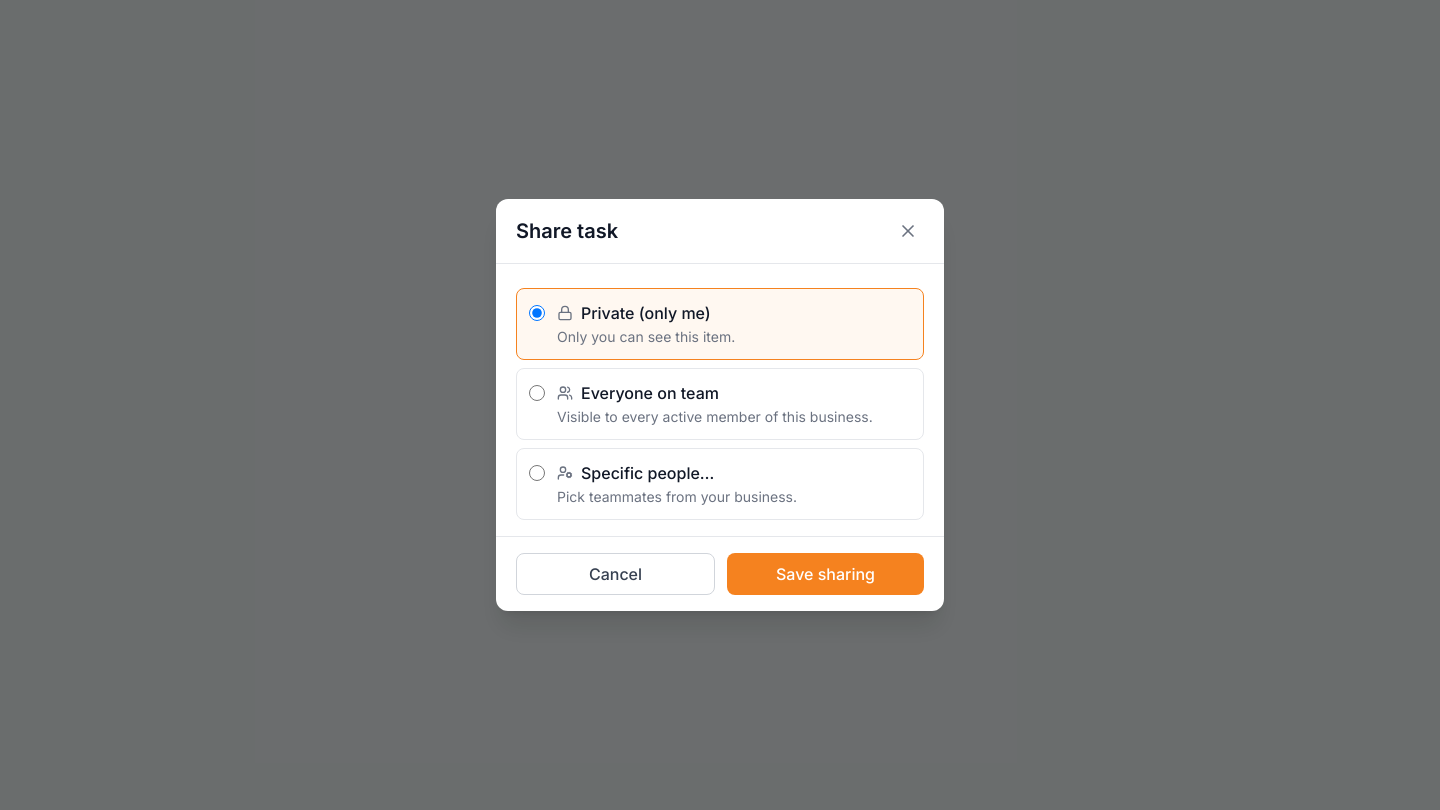
Test: ShareDialog — rendering › shows TeammatePicker only when "Specific people…" is selected
The width and height of the screenshot is (1440, 810).
# Switch to specific
Click the radio button labelled "Specific people… Pick teammates from your business.". click: (537, 473)
box: left=529, top=465, right=545, bottom=481
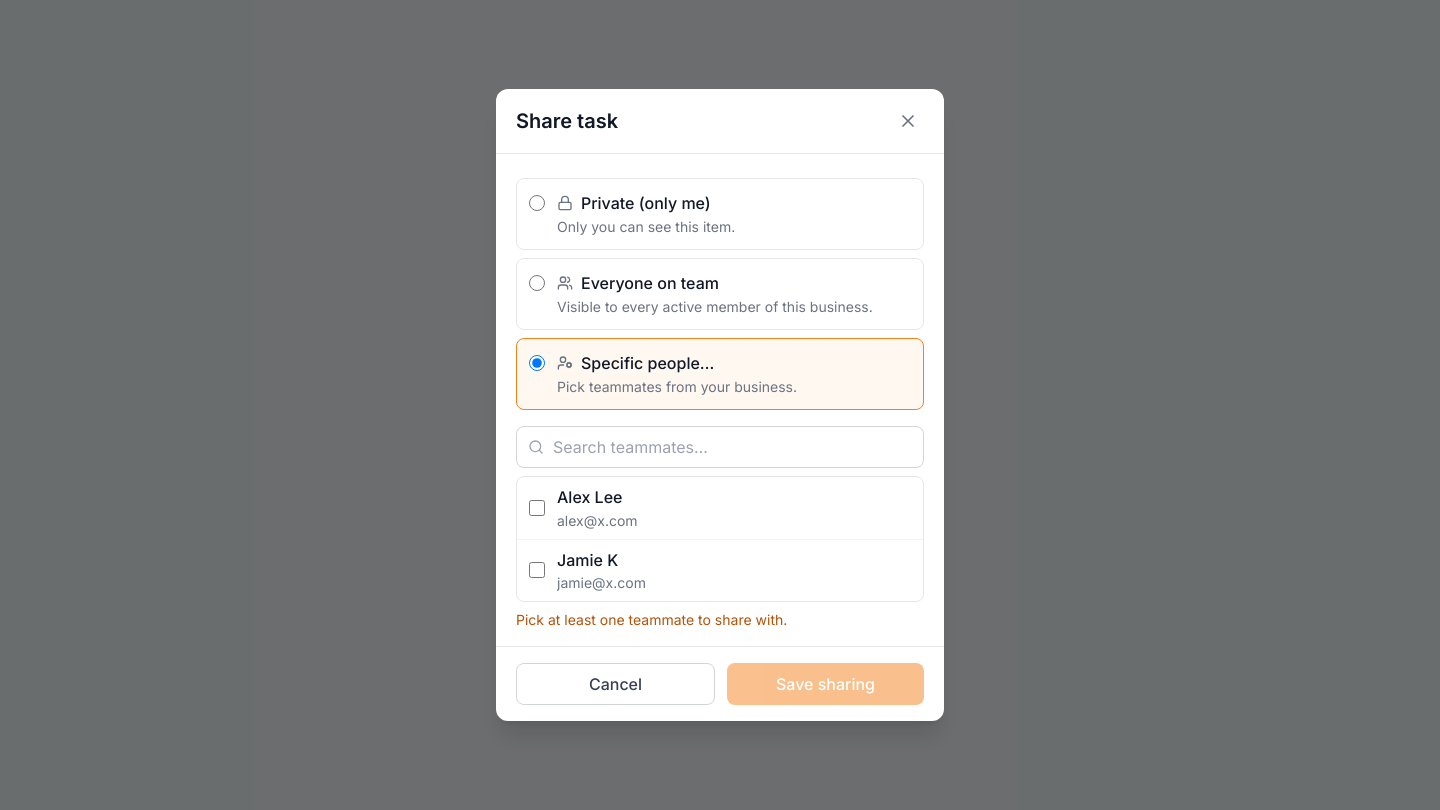
Check: the element with test id "teammate-picker" is shown, box left=516, top=426, right=924, bottom=602
# Back to team — hidden again
Click the radio button labelled "Everyone on team". click: (537, 283)
box: left=529, top=275, right=545, bottom=291
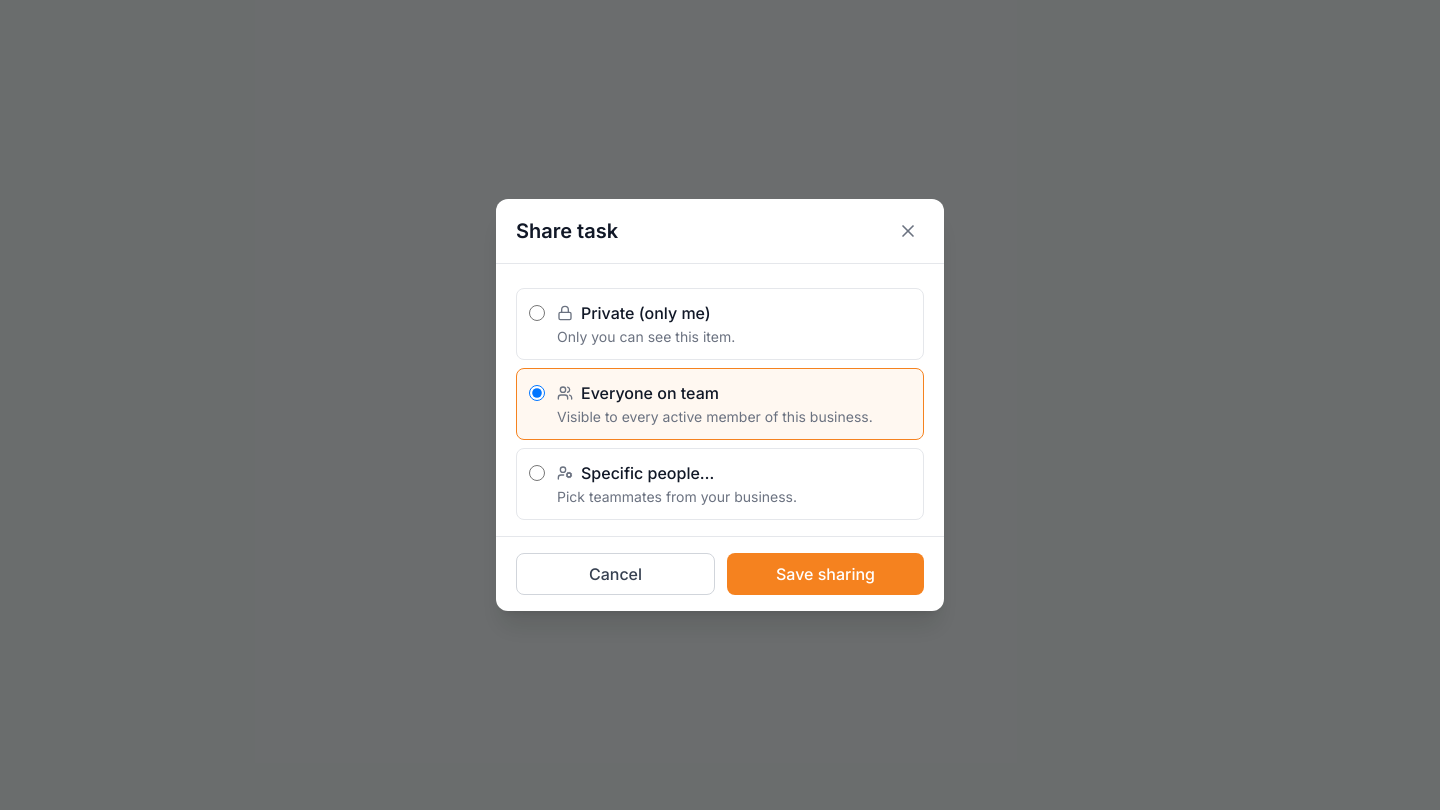
Check: the element with test id "teammate-picker" is gone
